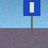sign: (23, 0, 40, 35)
